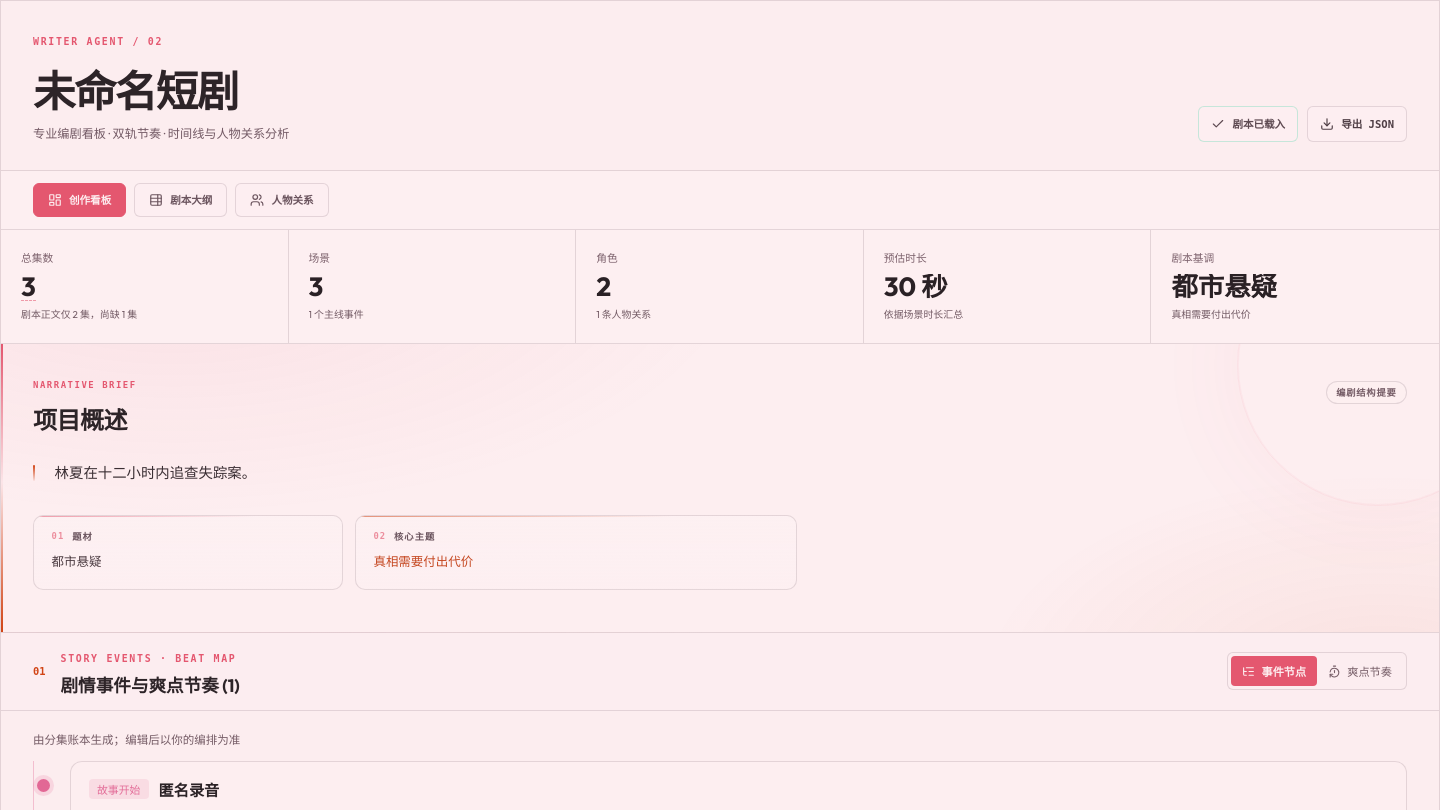
Test: WriterAgentPage script outline view › does not silently hide a missing final episode or fabricate shots for it
Click the button "剧本大纲": (181, 200) [134,183,227,217]
(page scrolled)
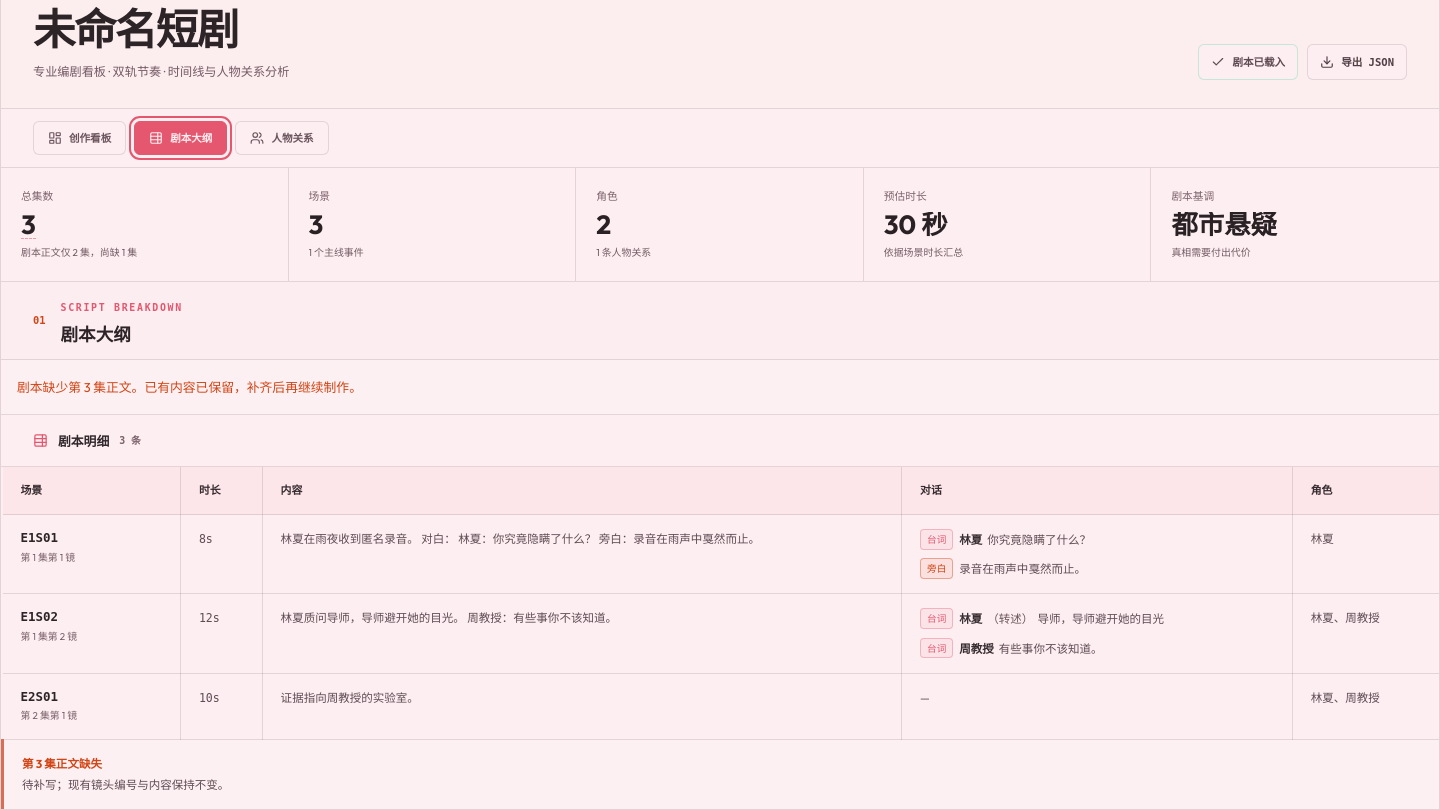
Check: the row "第 3 集正文缺失 待补写；现有镜头编号与内容保持不变。" is shown, box [2,740,1439,809]
